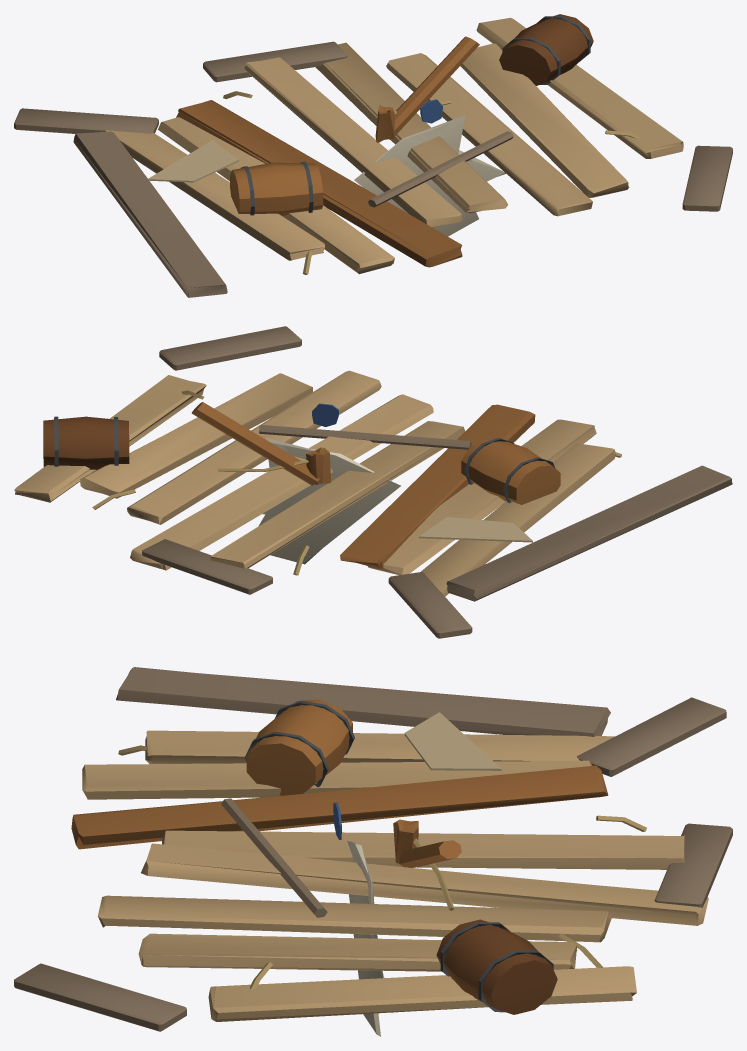
The model's file is 385_radeau_epave.fbx.
The picture shows the model from 3 angles, top to bottom: view 1: azimuth 30°, elevation 25°; view 2: azimuth 150°, elevation 25°; view 3: azimuth 270°, elevation 25°; orthographic projection. The views are drawn at different scales.
Parts seen in each view (by area): view 1: Planches, Tonneaux, Voile, Mat; view 2: Planches, Tonneaux, Voile, Mat; view 3: Planches, Tonneaux, Mat, Voile.
Part boxes in pixels (x1,y1,x2,y2): Planches: (14, 17, 732, 297); Tonneaux: (230, 14, 593, 216); Voile: (147, 99, 505, 236); Mat: (223, 36, 640, 274); Planches: (14, 326, 732, 638); Tonneaux: (43, 416, 560, 504); Voile: (259, 403, 532, 564); Mat: (92, 390, 621, 575); Planches: (14, 667, 732, 1031); Tonneaux: (244, 699, 557, 1014); Mat: (118, 745, 646, 989); Voile: (333, 712, 501, 1036).
Bounding box in the file's own units: 3.92 × 1.12 × 3.36.
1 material, 1 textured.
